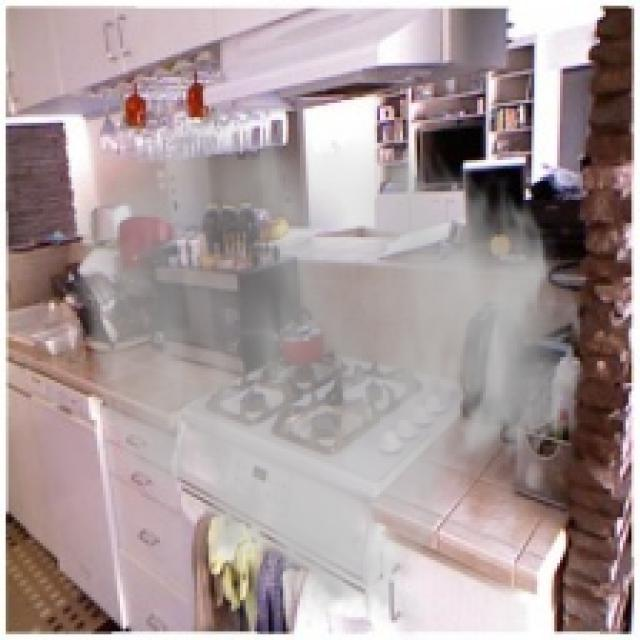smoke: (63, 106, 591, 637)
